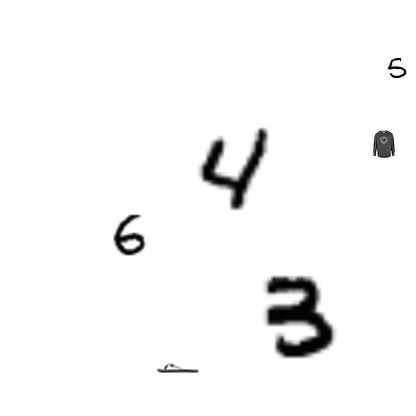3: (240, 261, 352, 373)
4: (175, 113, 287, 225)
5: (382, 54, 410, 82)
6: (100, 209, 156, 265)
Pullover: (370, 130, 398, 158)
Sandal: (157, 347, 199, 389)
